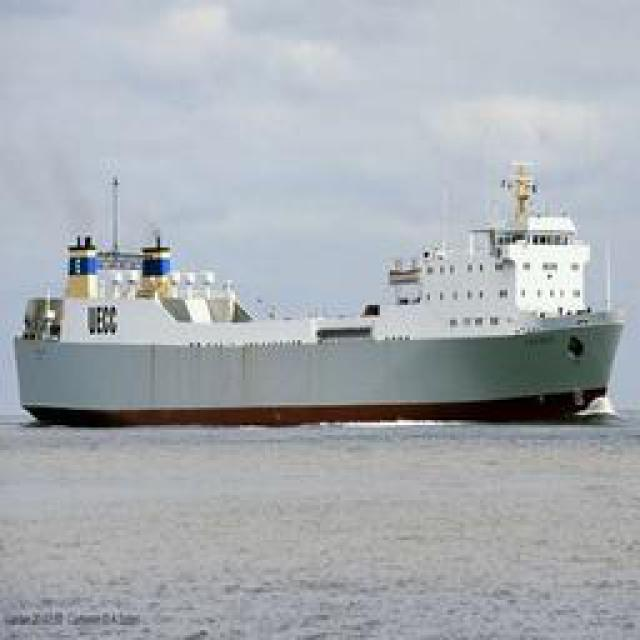Ship: (20, 149, 623, 424)
